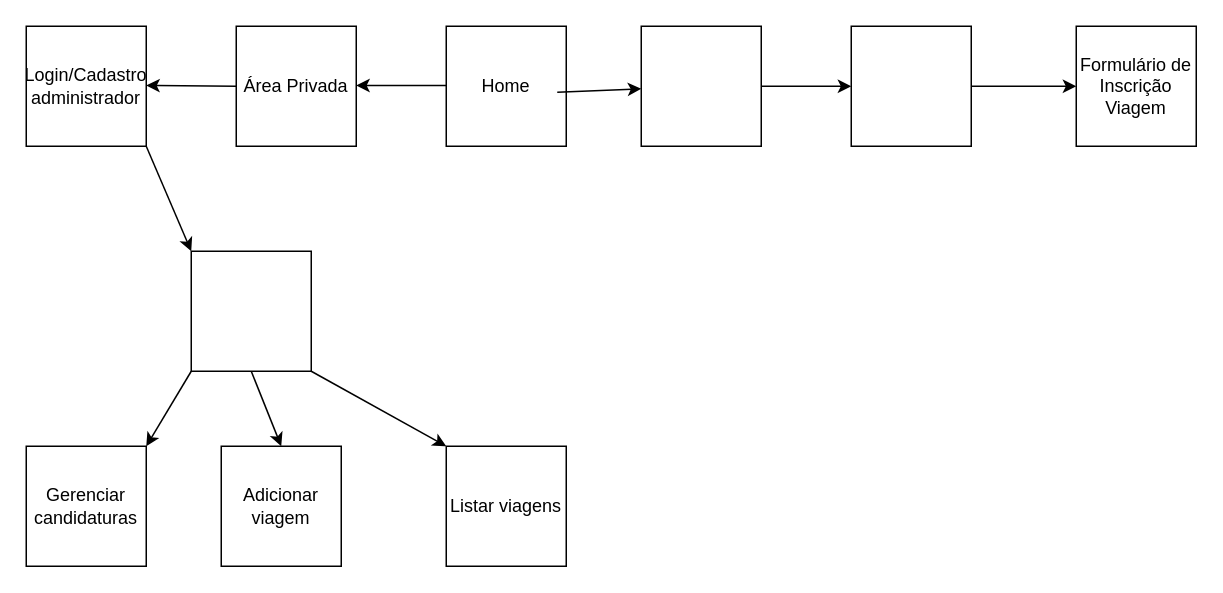
Image size: 1223x593. Some labels were removed from this diagram. Each missing label, with the box of its shape:
Gerenciamento de Viagens: (190, 250, 311, 371)
Lista de Viagens Disponíveis: (850, 25, 971, 146)
Área Pública: (640, 25, 761, 146)
